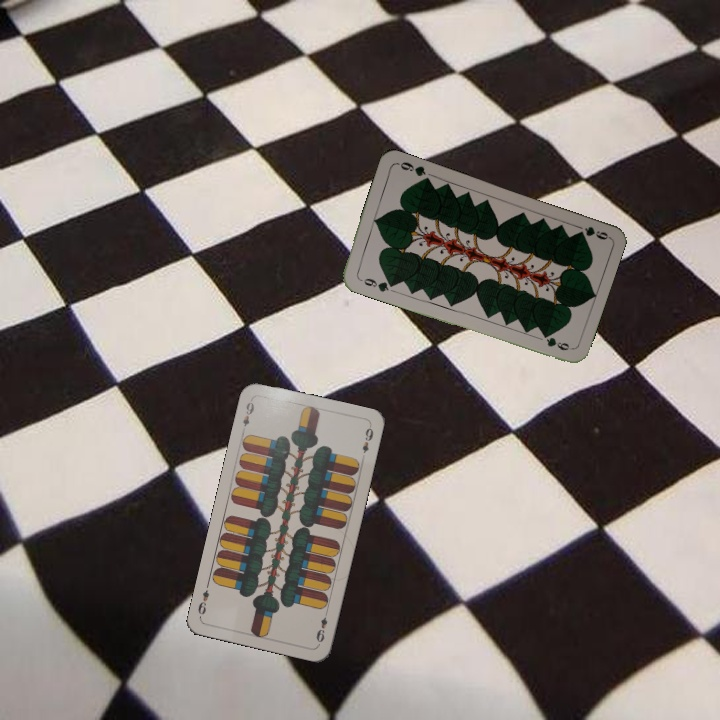E9: (312, 607, 330, 647), (238, 398, 257, 435)
G9: (355, 274, 395, 294), (574, 222, 611, 242)
